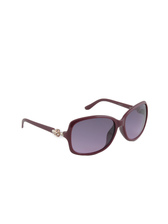glasses: (19, 88, 148, 153)
